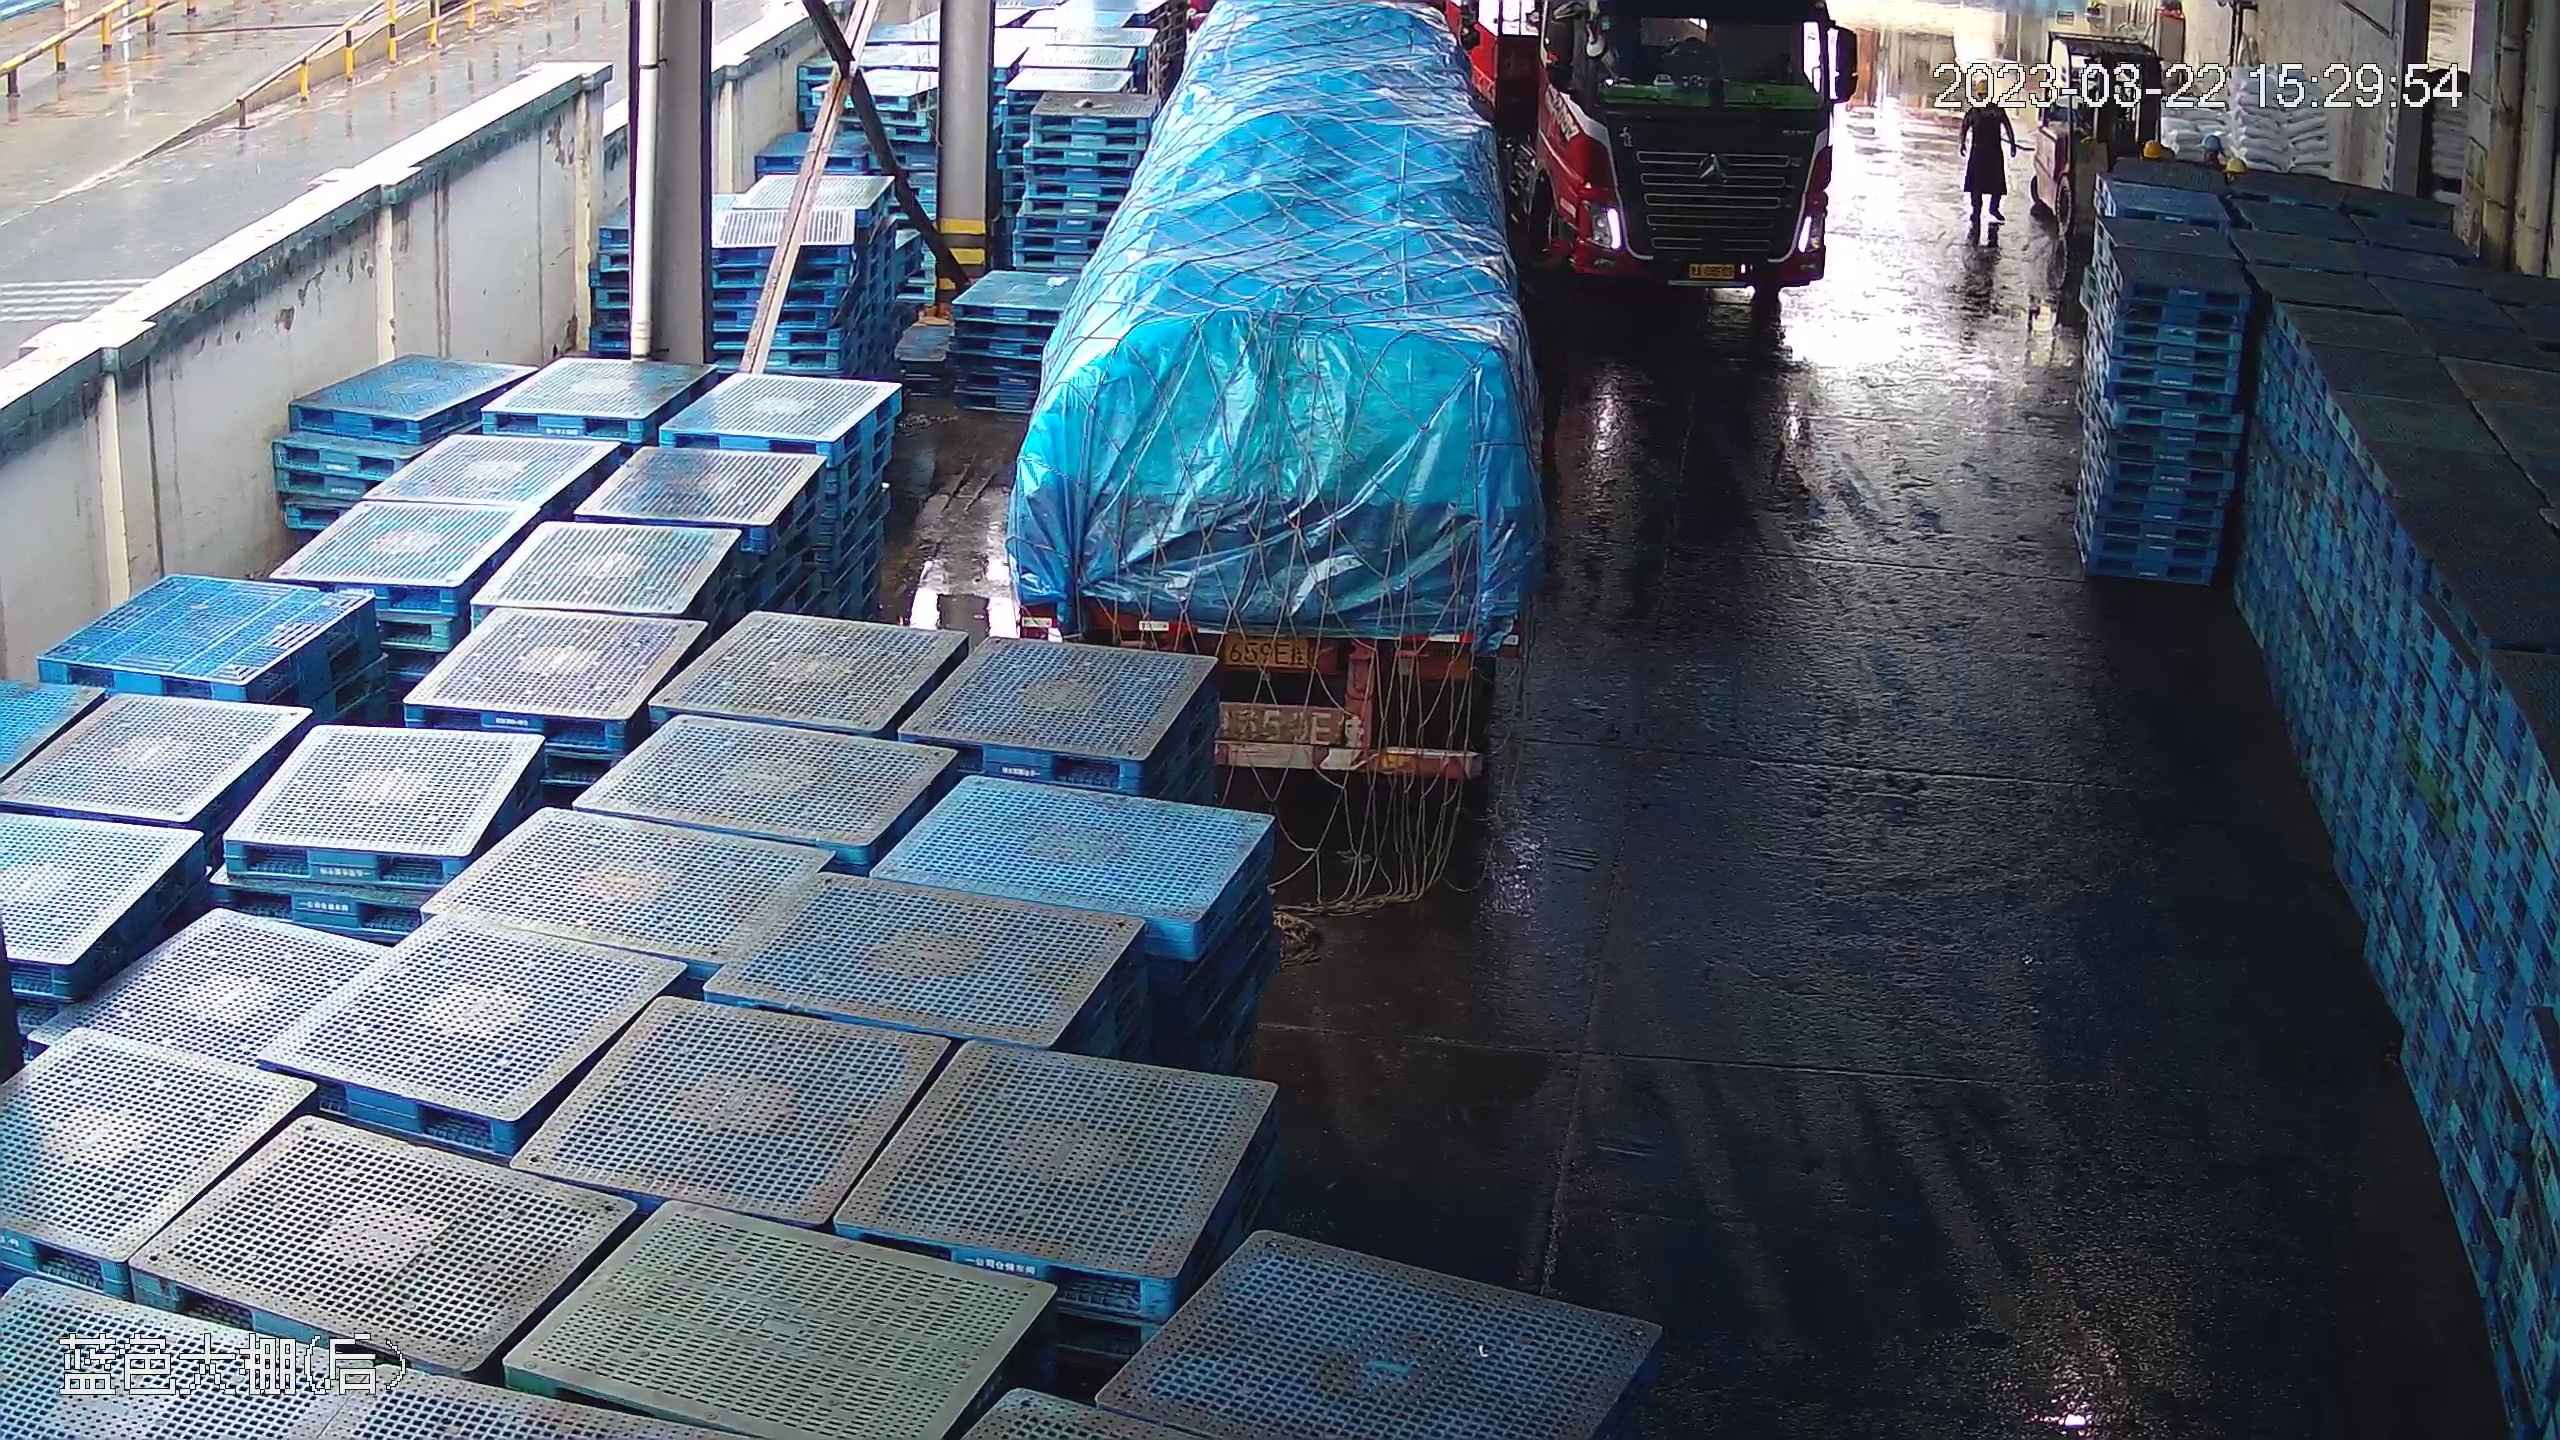head: (1962, 74, 2010, 131)
people: (1957, 69, 2014, 278)
truck: (993, 0, 1544, 796), (1478, 0, 1861, 300)
